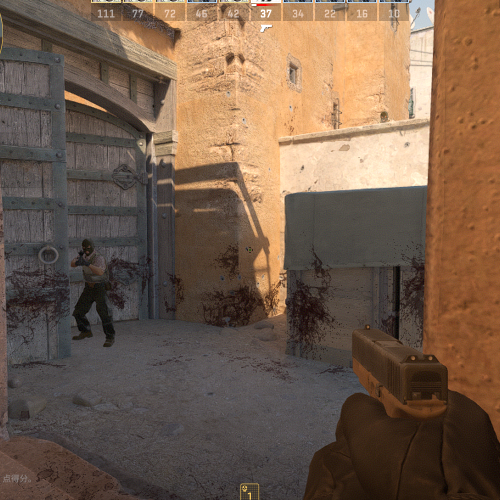t_body: (71, 239, 117, 347)
t_head: (81, 240, 93, 254), (379, 111, 390, 124)
